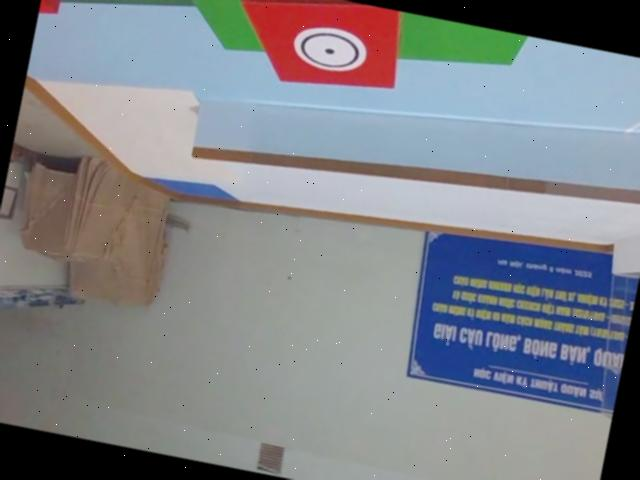R1: (37, 0, 70, 22)
R2 Real: (224, 0, 409, 105)
